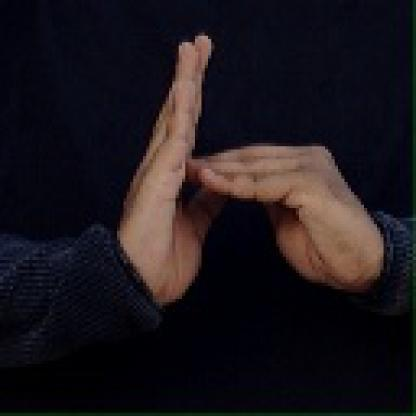Z: (114, 11, 410, 320)
